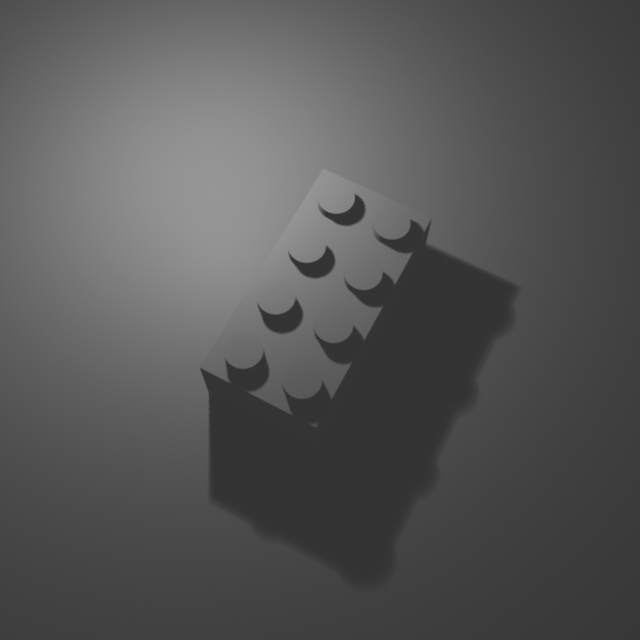lego_2x4: (198, 162, 433, 449)
